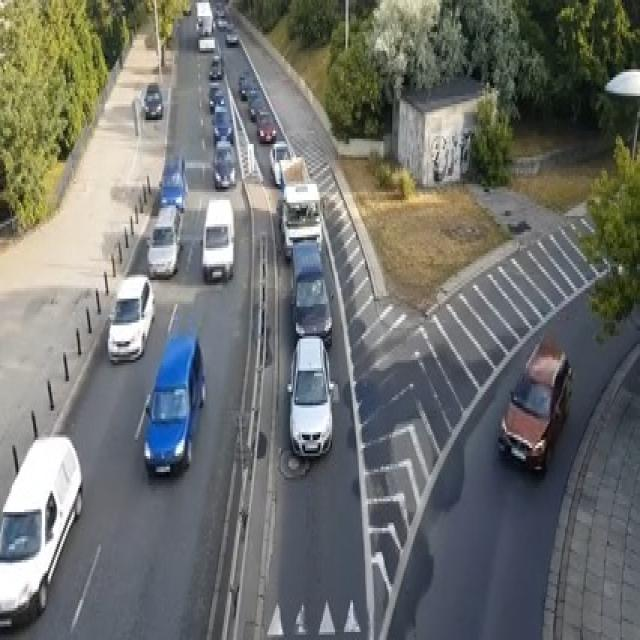car: (0, 432, 83, 629), (498, 336, 572, 472), (143, 330, 206, 474), (286, 333, 334, 459), (106, 272, 154, 363), (290, 240, 332, 344), (280, 181, 322, 259), (202, 197, 234, 283), (146, 203, 182, 277), (158, 152, 188, 211), (212, 139, 234, 189), (269, 138, 291, 186), (212, 104, 233, 141), (141, 83, 162, 117), (256, 110, 276, 142), (196, 0, 213, 35), (248, 91, 264, 120), (209, 83, 224, 112), (240, 77, 257, 99), (209, 54, 222, 78), (216, 13, 233, 30), (197, 34, 215, 50), (225, 27, 239, 45)
